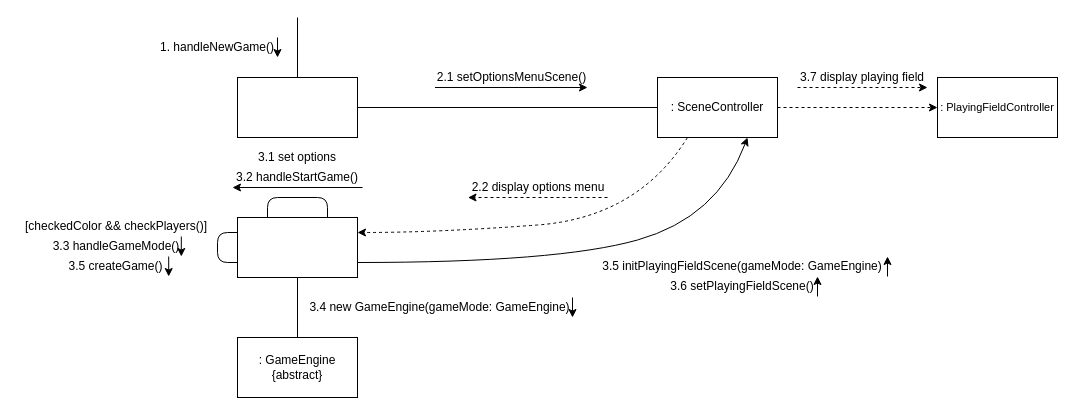
Image size: 1075x415. Some labels were removed from this diagram. Here are the shapes that lost their labels. From the top down, the centre of each, then its label:
point (297, 107): : StartMenuController
point (297, 247): : OptionsMenuController
